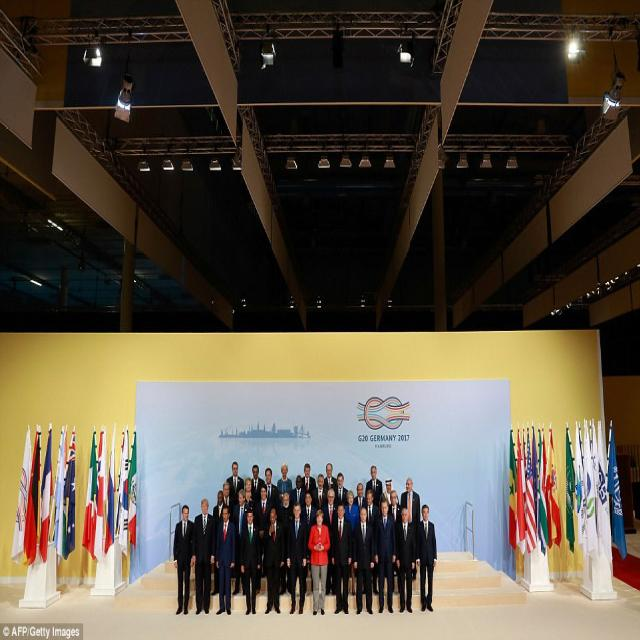body: (189, 496, 215, 615), (373, 496, 397, 614), (329, 501, 353, 614), (172, 503, 196, 616), (414, 502, 438, 614), (261, 505, 285, 615), (238, 507, 262, 616), (351, 507, 375, 615), (286, 501, 308, 615), (214, 504, 236, 615), (307, 508, 329, 616), (394, 506, 416, 613), (231, 488, 251, 595), (400, 476, 420, 580), (254, 483, 273, 580), (322, 487, 338, 596), (365, 488, 381, 595), (343, 489, 359, 596), (210, 489, 226, 596), (277, 491, 293, 596), (301, 491, 316, 581), (225, 460, 245, 524), (364, 464, 383, 508), (300, 462, 317, 510), (288, 475, 306, 518), (322, 462, 338, 510), (379, 476, 401, 506), (250, 463, 266, 504), (331, 470, 349, 506), (264, 466, 278, 511), (311, 472, 328, 507), (276, 460, 293, 493), (388, 489, 403, 526), (352, 481, 368, 512), (244, 475, 256, 510), (221, 481, 235, 509)
